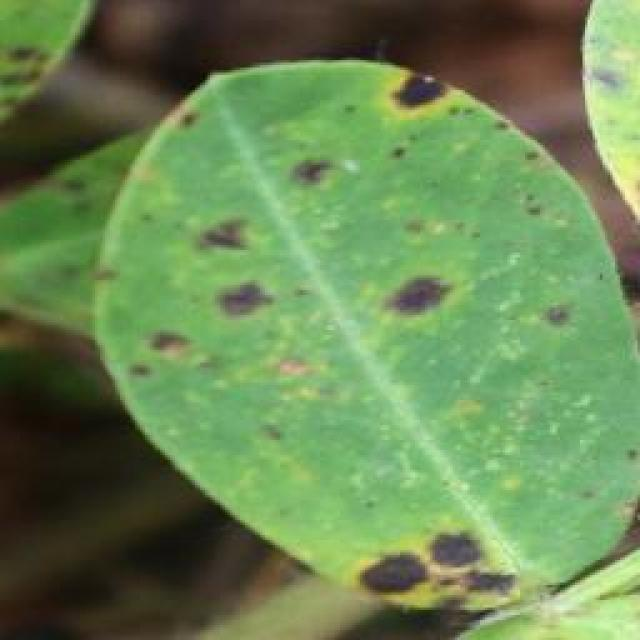Yellowish: (109, 58, 578, 634)
